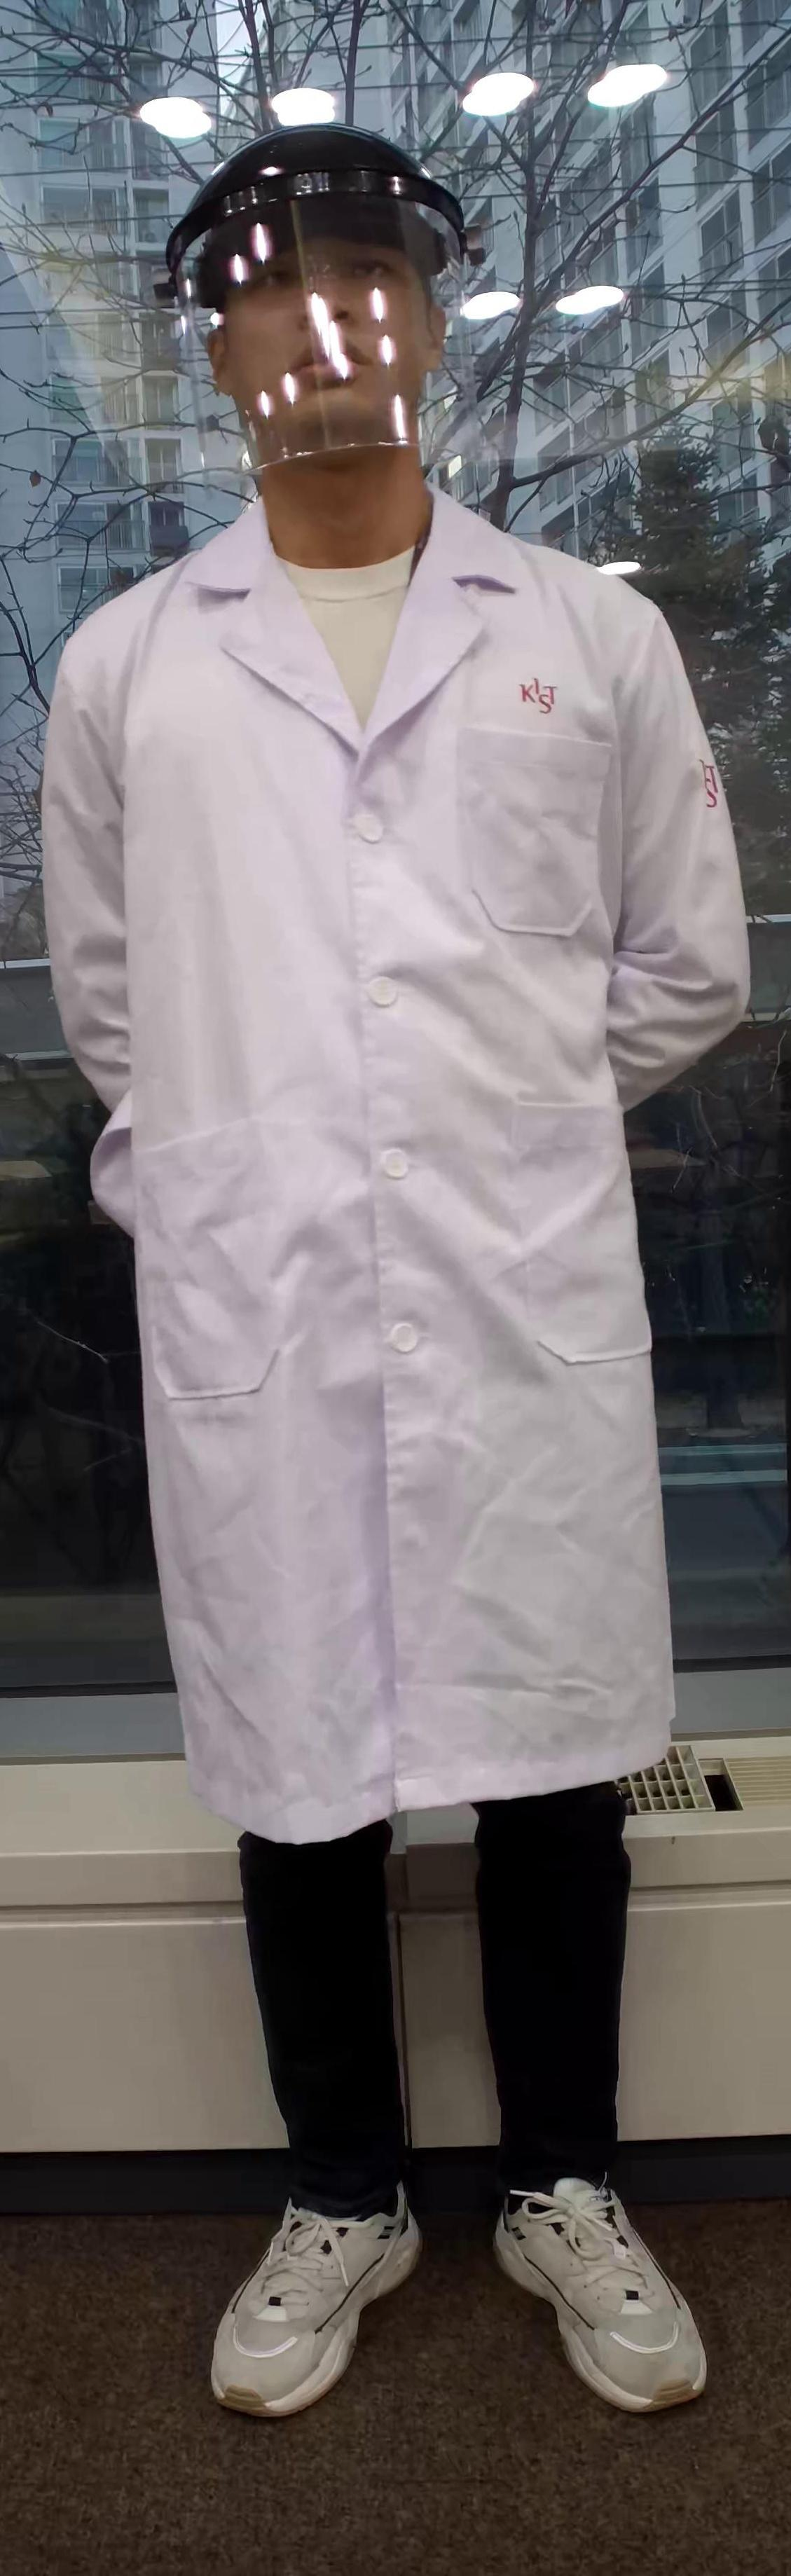lab_coat: (82, 596, 681, 1817)
